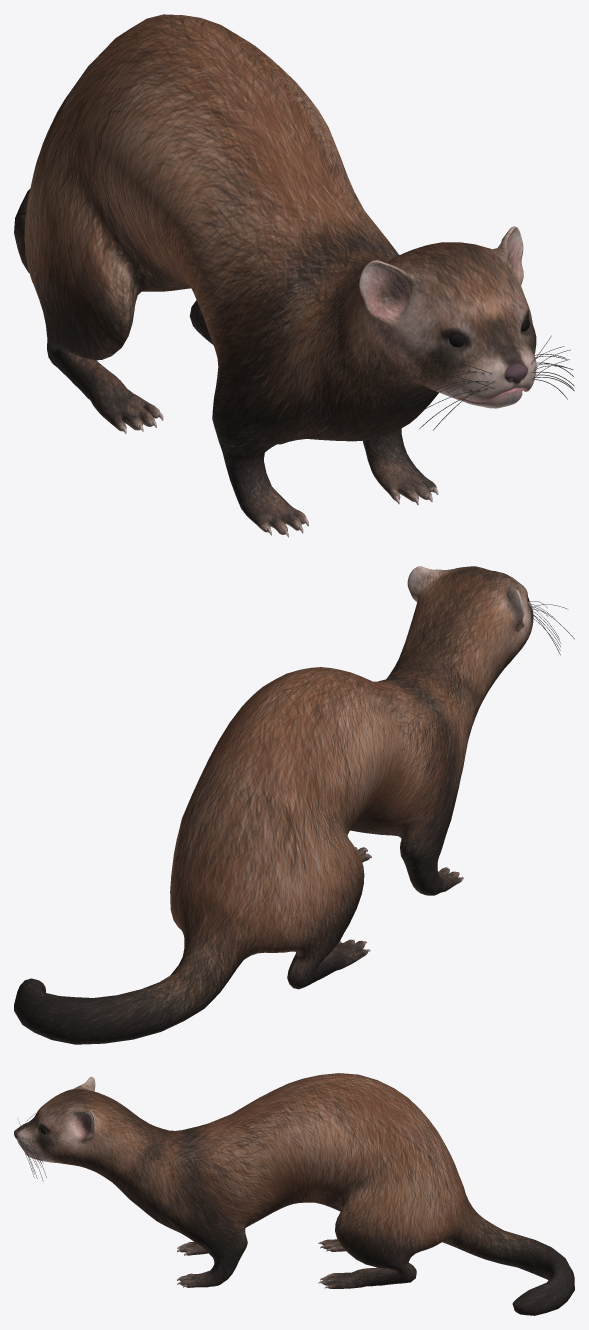
Rendered from Vison.glb.
The picture shows the model from 3 angles, top to bottom: view 1: azimuth 30°, elevation 25°; view 2: azimuth 150°, elevation 25°; view 3: azimuth 270°, elevation 25°; orthographic projection. The views are drawn at different scales.
Visible parts, largest first — view 1: Object_4.004; view 2: Object_4.004; view 3: Object_4.004.
Boxes of the visible parts, x1=… form: Object_4.004: x1=14, y1=14, x2=574, y2=537; Object_4.004: x1=14, y1=566, x2=574, y2=1044; Object_4.004: x1=14, y1=1073, x2=574, y2=1315.
Bounding box in the file's own units: 4.33 × 4.94 × 13.05.
1 material, 1 textured.
